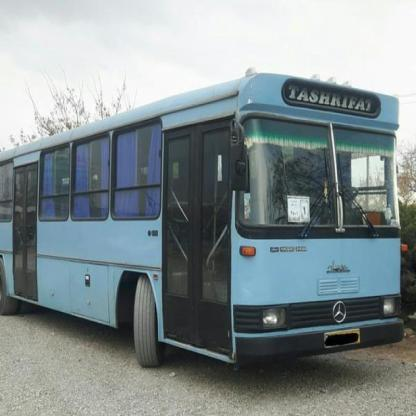Bus: (0, 57, 411, 384)
